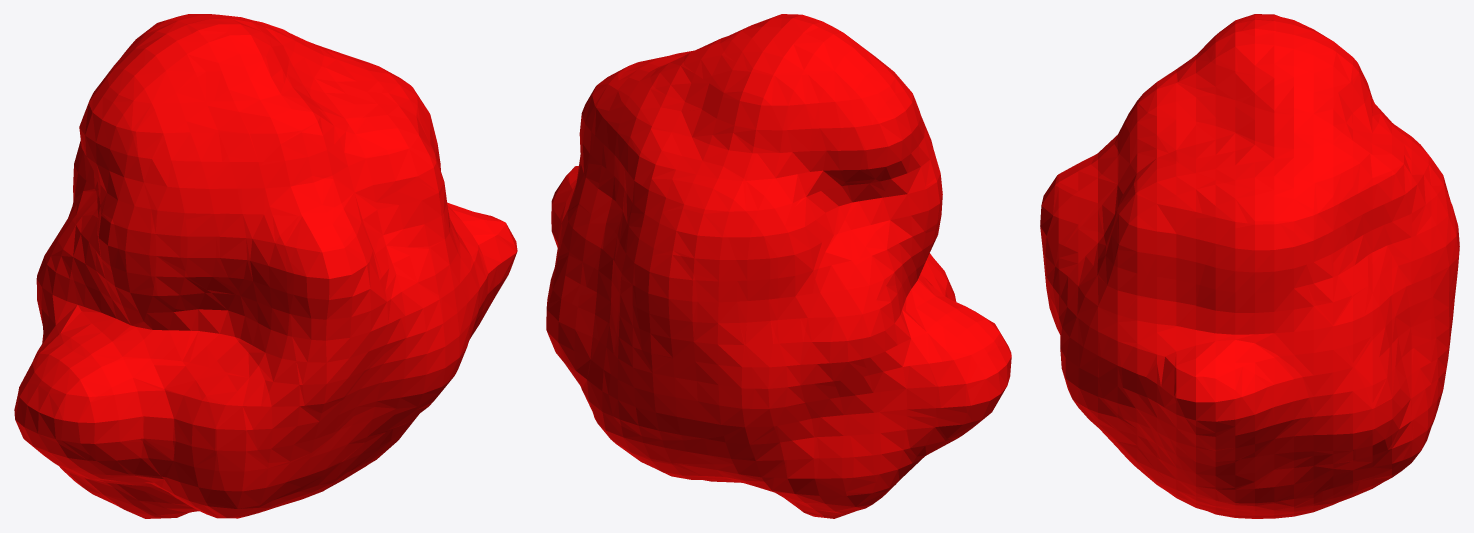
File: ppiB_coarse.dae
3 renders of one model, left to right at view 1: azimuth 30°, elevation 25°; view 2: azimuth 150°, elevation 25°; view 3: azimuth 270°, elevation 25°, orthographic. The views are drawn at different scales.
Parts seen in each view (by area): view 1: ppiB; view 2: ppiB; view 3: ppiB.
Part boxes in pixels (left/top/right/bottom): ppiB: left=14, top=14, right=517, bottom=518; ppiB: left=546, top=14, right=1011, bottom=518; ppiB: left=1040, top=14, right=1459, bottom=518.
Bounding box in the file's own units: 47.09 × 46.78 × 37.85.
